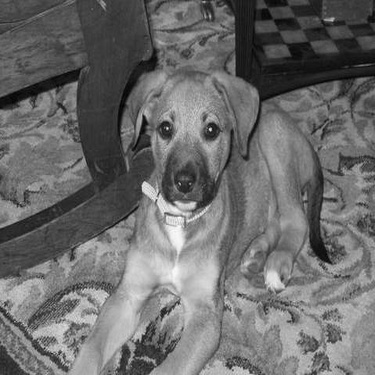dog: (59, 58, 344, 371)
